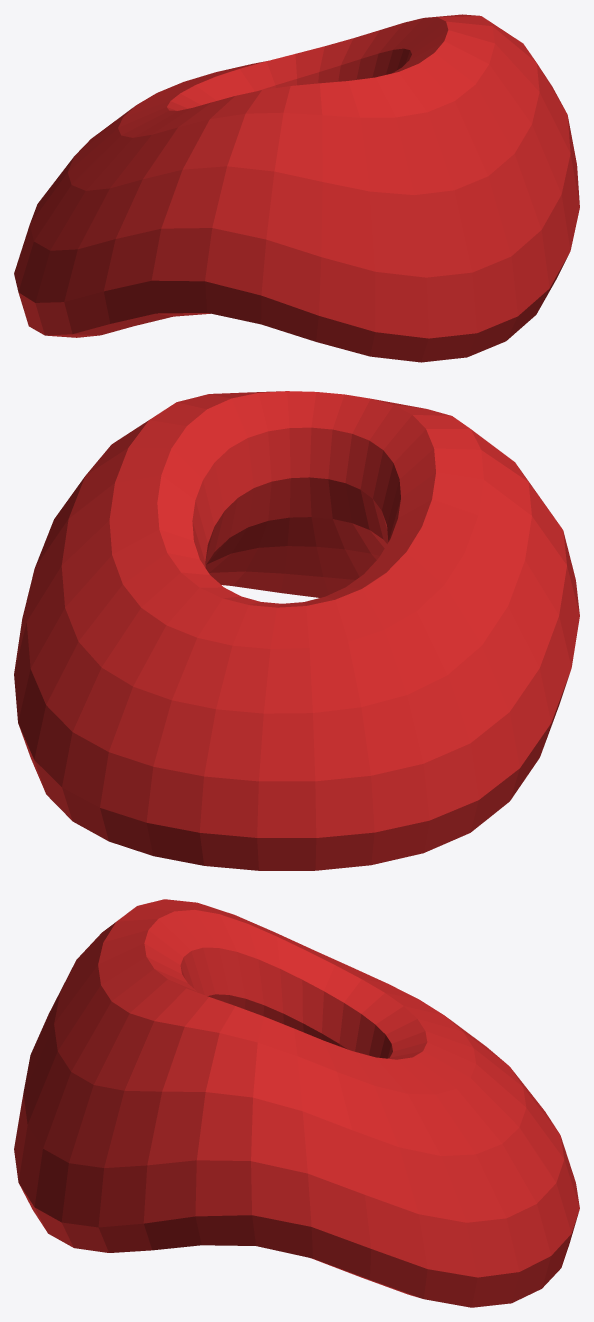
File: donut2.gltf
3 views of the same model, one above another, from view 1: azimuth 30°, elevation 25°; view 2: azimuth 150°, elevation 25°; view 3: azimuth 270°, elevation 25° (orthographic).
Visible parts, largest first — view 1: Torus.004; view 2: Torus.004; view 3: Torus.004.
Part boxes in pixels (left/top/right/bottom): Torus.004: left=14, top=14, right=579, bottom=362; Torus.004: left=14, top=391, right=579, bottom=870; Torus.004: left=14, top=899, right=579, bottom=1307.
Bounding box in the file's own units: 2.11 × 1.29 × 2.12.
